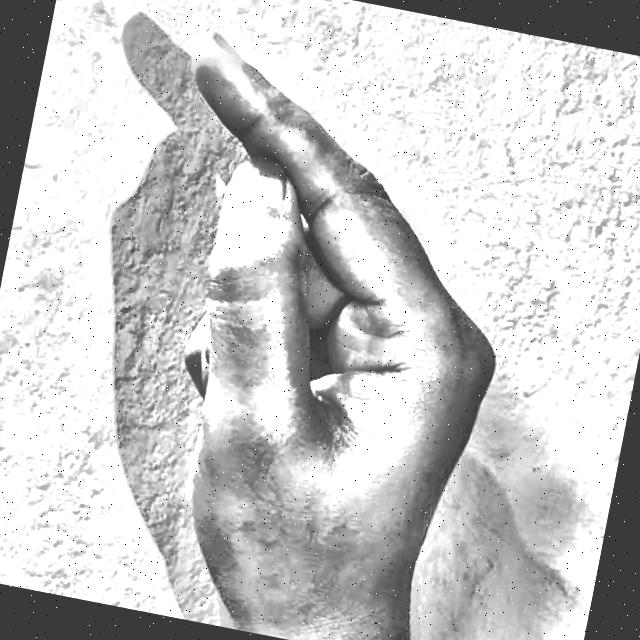Tha: (64, 7, 578, 640)
